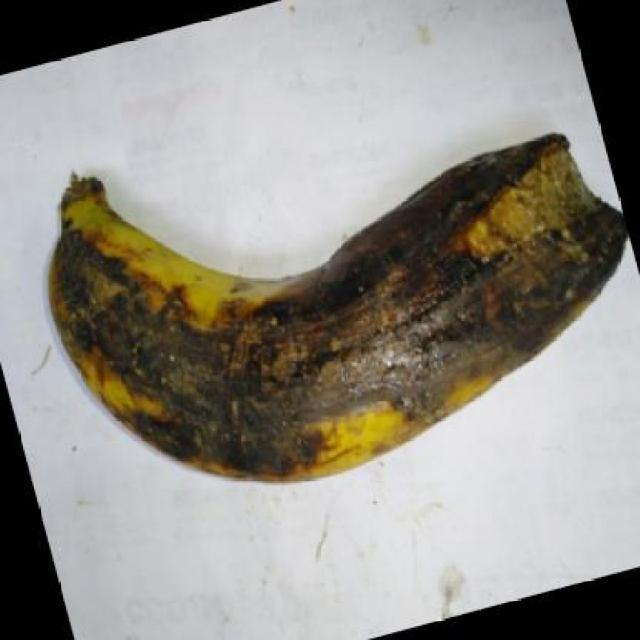rotten: (25, 118, 640, 489)
